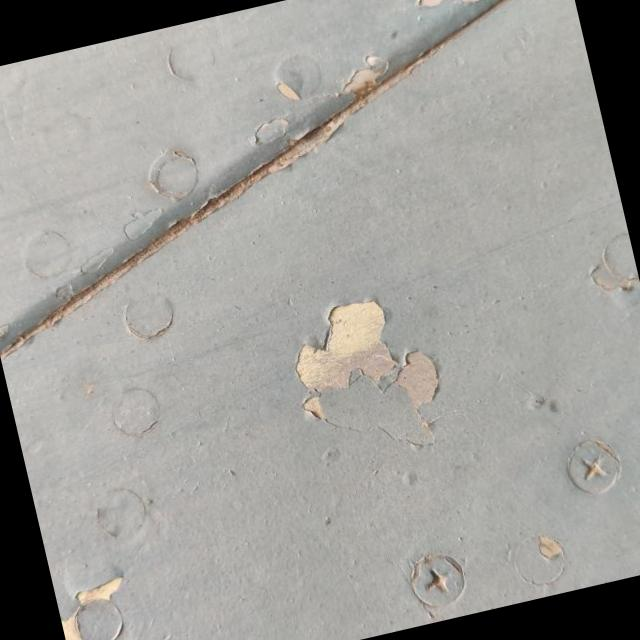Paint-off: (296, 300, 442, 437), (62, 575, 130, 640)
